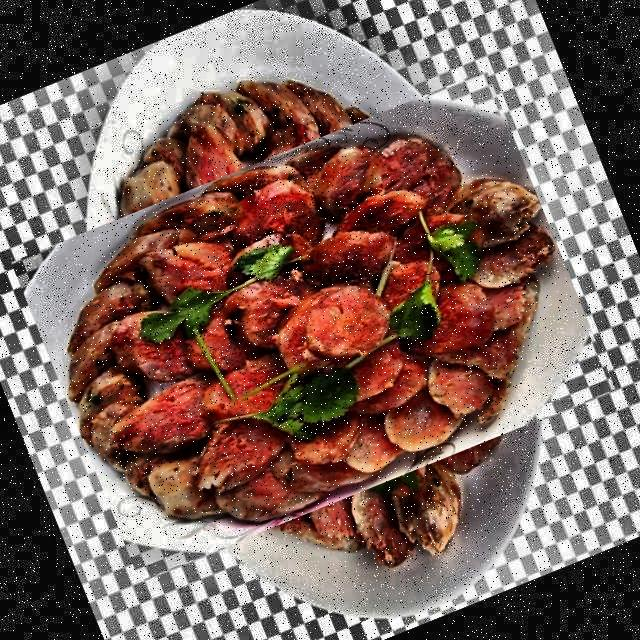Food: (34, 46, 593, 604)
